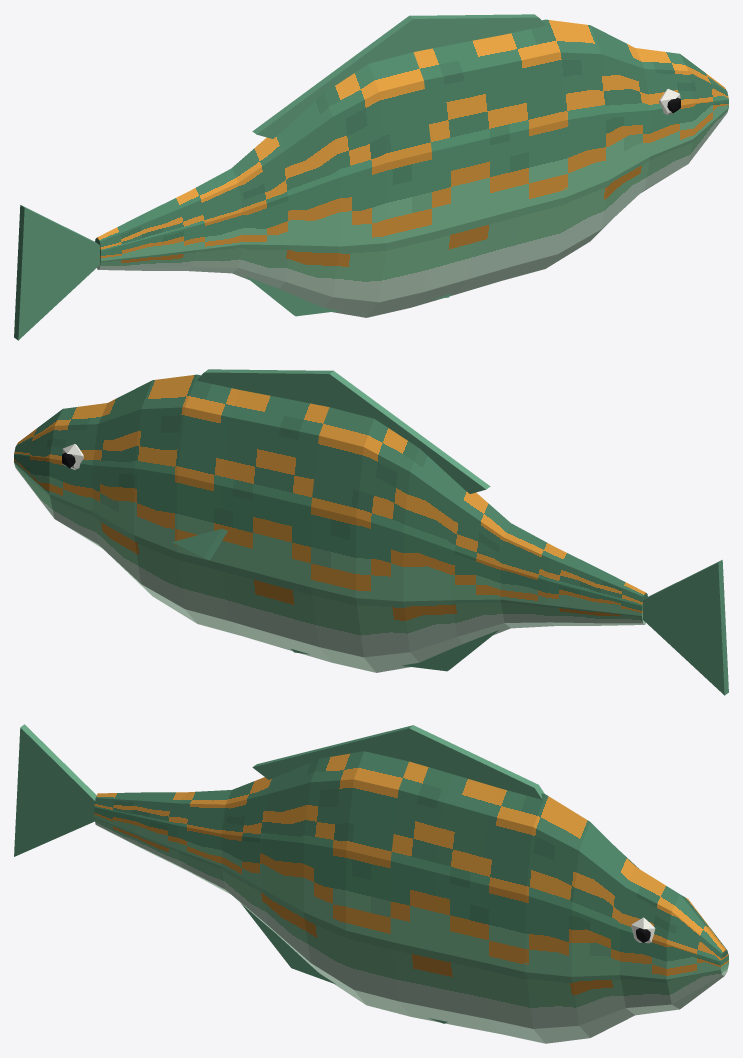
The model's file is rainbow_cale.glb.
3 renders of one model, top to bottom at view 1: azimuth 30°, elevation 25°; view 2: azimuth 150°, elevation 25°; view 3: azimuth 330°, elevation 25°, orthographic.
Parts seen in each view (by area): view 1: fish_rainbow_cale; view 2: fish_rainbow_cale; view 3: fish_rainbow_cale.
Boxes of the visible parts, x1=… form: fish_rainbow_cale: x1=14, y1=14, x2=728, y2=340; fish_rainbow_cale: x1=14, y1=369, x2=728, y2=695; fish_rainbow_cale: x1=14, y1=724, x2=728, y2=1043.
Size of the model in its own units: 1.13 by 0.4423 by 0.1417.
4 materials, 1 textured.
